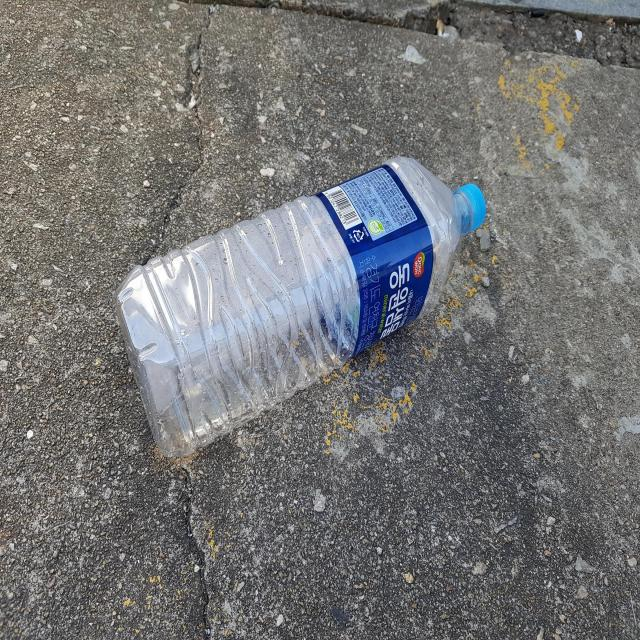plastic: (116, 156, 487, 457)
